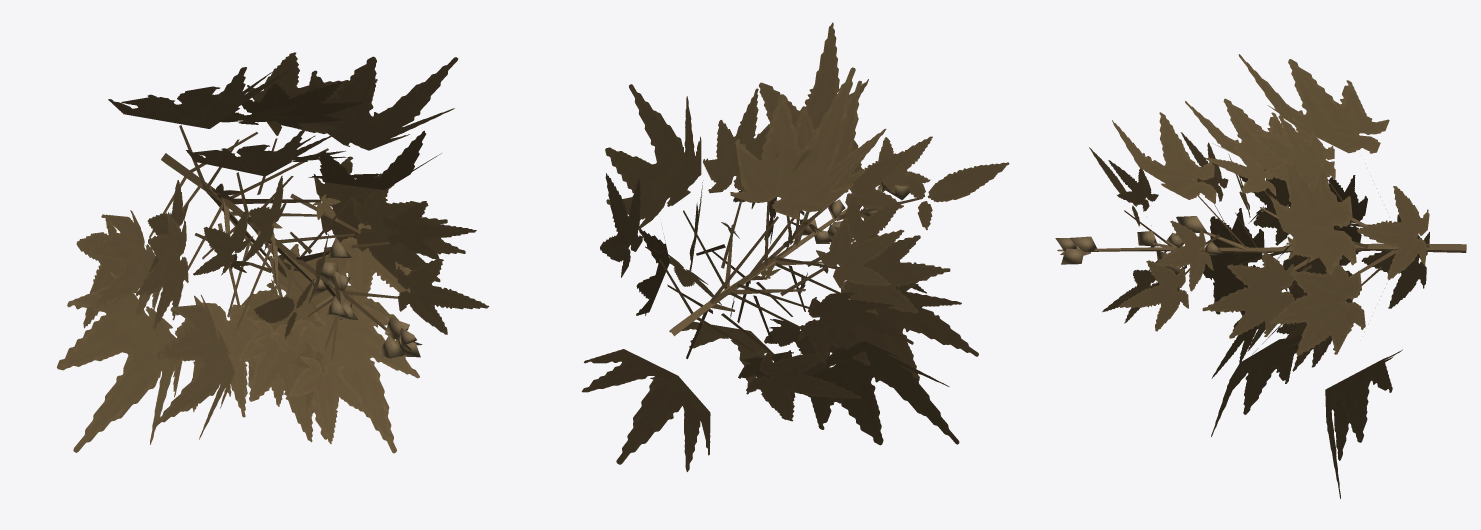
Rendered from p_male_tree_preflower_c3_cards.obj.
3 renders of one model, left to right at view 1: azimuth 30°, elevation 25°; view 2: azimuth 150°, elevation 25°; view 3: azimuth 270°, elevation 25°, orthographic. The views are drawn at different scales.
Size of the model in its own units: 1.42 by 1.41 by 1.28.
Materials: 1 (1 with a texture image).
